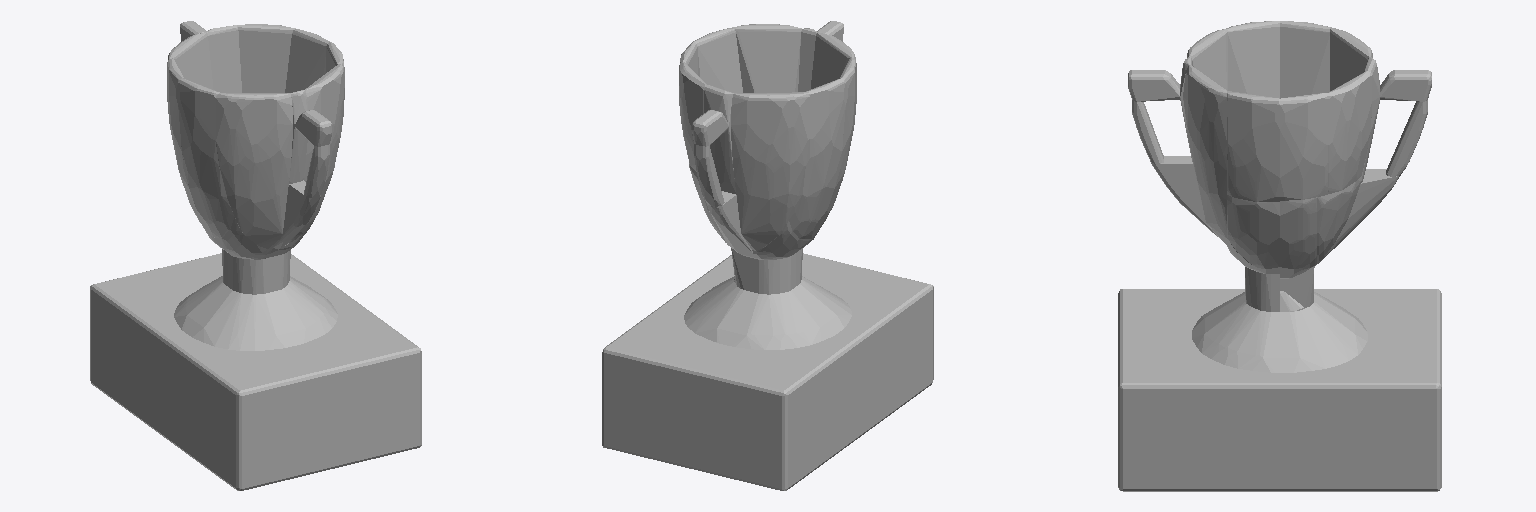
The robot description file, URDF, robot "root":
<?xml version="1.0"?>
<robot name="root">
  <link name="base_link">
    <visual>
      <origin xyz="0 0 0" rpy="0 0 0" />
      <geometry>
        <mesh filename="../meshes/unidex_sem_ToyFigure-50c9c9392ae7403c648c1a69840a0330_006.obj" scale="1.0000E+00 1.0000E+00 1.0000E+00" />
      </geometry>
      <material name="">
        <color rgba="7.50E-01 7.50E-01 7.50E-01 1" />
      </material>
    </visual>
    <collision>
      <origin xyz="0 0 0" rpy="0 0 0" />
      <geometry>
        <mesh filename="../meshes/unidex_sem_ToyFigure-50c9c9392ae7403c648c1a69840a0330_006.obj" scale="1.0000E+00 1.0000E+00 1.0000E+00" />
      </geometry>
    </collision>
  </link>
</robot>

--- Facts derived from the render (not from the file) ---
The picture shows the robot from 3 angles, left to right: view 1: azimuth 30°, elevation 25°; view 2: azimuth 150°, elevation 25°; view 3: azimuth 270°, elevation 25°; orthographic projection.
Robot: root — 1 links, 0 joints (none); root link base_link; default pose: every joint at zero.
Links seen in each view (by area): view 1: base_link; view 2: base_link; view 3: base_link.
Link boxes in pixels (x1,y1,x2,y2): base_link: [90, 21, 421, 490]; base_link: [602, 21, 933, 490]; base_link: [1118, 21, 1441, 491].
Size in the robot's own frame: 0.0468 by 0.0655 by 0.0861 metres.
Meshes: 1 distinct files referenced, 1 mesh visuals loaded (1 OBJ).
